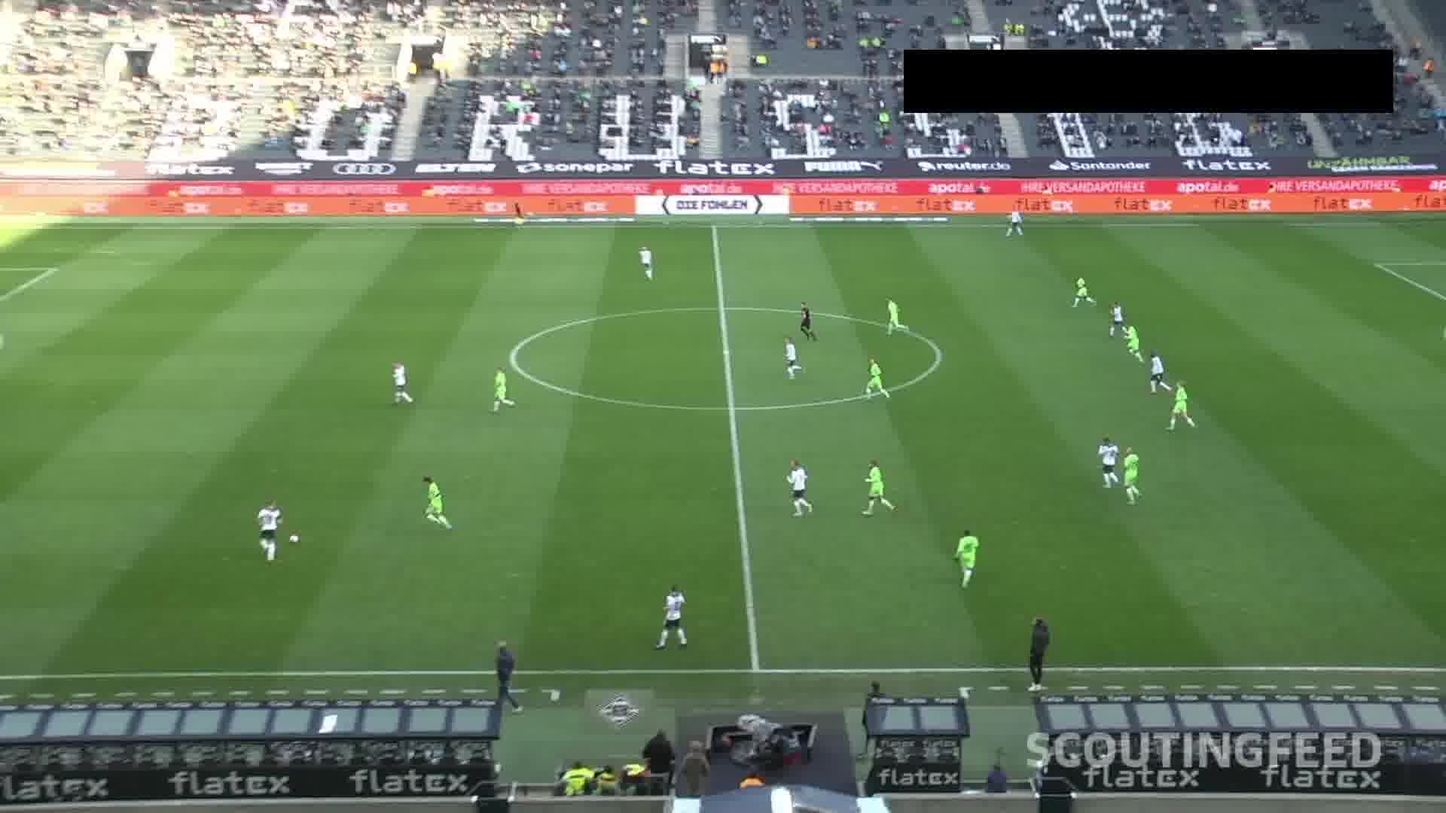ball: (287, 531, 305, 547)
coach_staff: (483, 637, 518, 709), (1023, 617, 1056, 690)
player: (779, 454, 815, 517), (654, 583, 685, 654), (948, 522, 978, 587), (418, 474, 451, 529), (857, 458, 891, 511), (388, 358, 420, 414), (1167, 379, 1196, 432), (254, 497, 277, 563), (486, 361, 513, 414), (861, 355, 891, 401), (1122, 448, 1145, 501), (881, 294, 910, 336), (1096, 434, 1117, 489), (1123, 326, 1149, 363), (779, 336, 800, 380), (1102, 296, 1123, 336), (1147, 349, 1169, 384), (1004, 207, 1028, 238), (638, 240, 656, 281), (1073, 274, 1093, 309)
referee: (506, 196, 531, 228), (800, 301, 817, 339)
